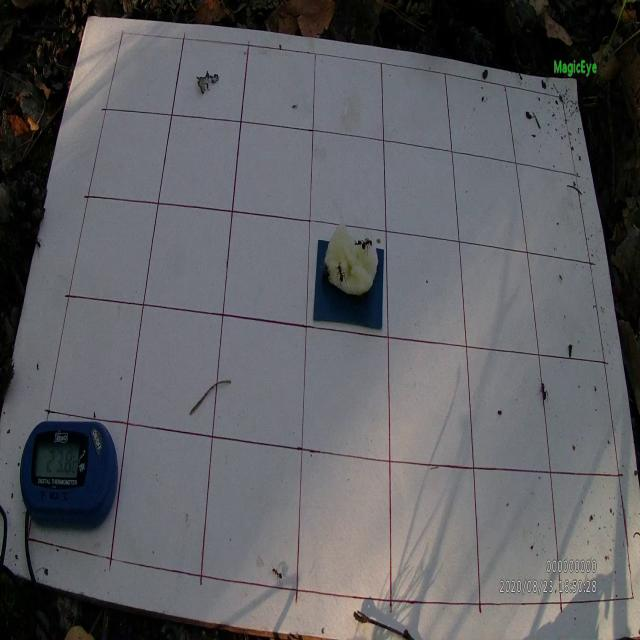Ant: (536, 378, 548, 405), (335, 262, 347, 288), (32, 236, 45, 255), (272, 566, 283, 586), (360, 238, 372, 253)
